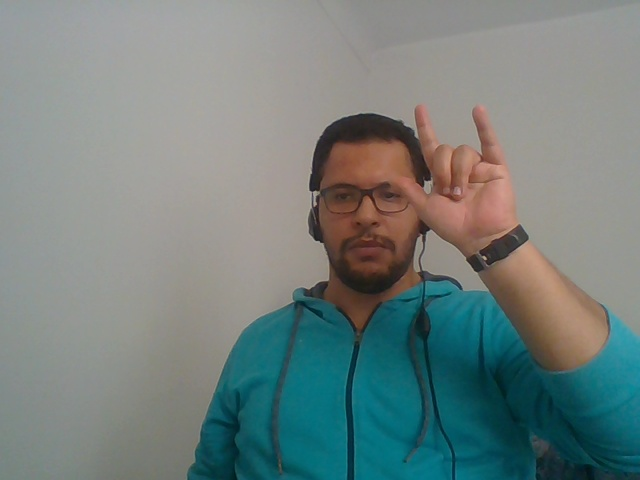iloveyou: (391, 81, 583, 315)
